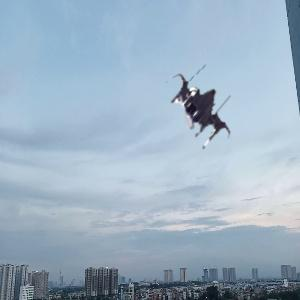drone: (154, 64, 247, 157)
